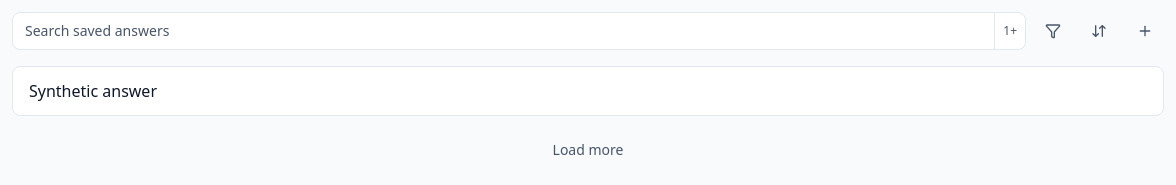
Test: prefetches near the list end without revealing rows until Load more is clicked
Check: the text "Later answer" is not shown
Click the button "Load more".
click(588, 150)  # box 541,132 -> 636,168
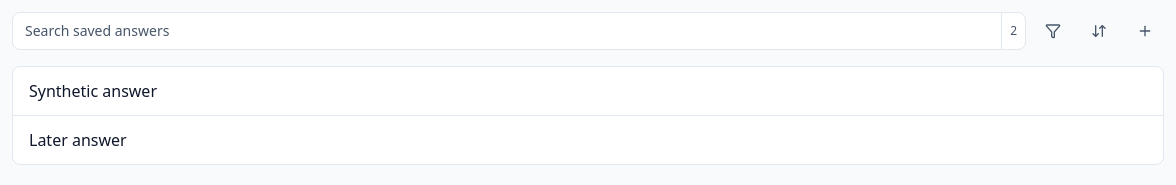
Check: the text "Later answer" is shown, box 29,129 -> 127,151
Check: the button "Load more" is gone
